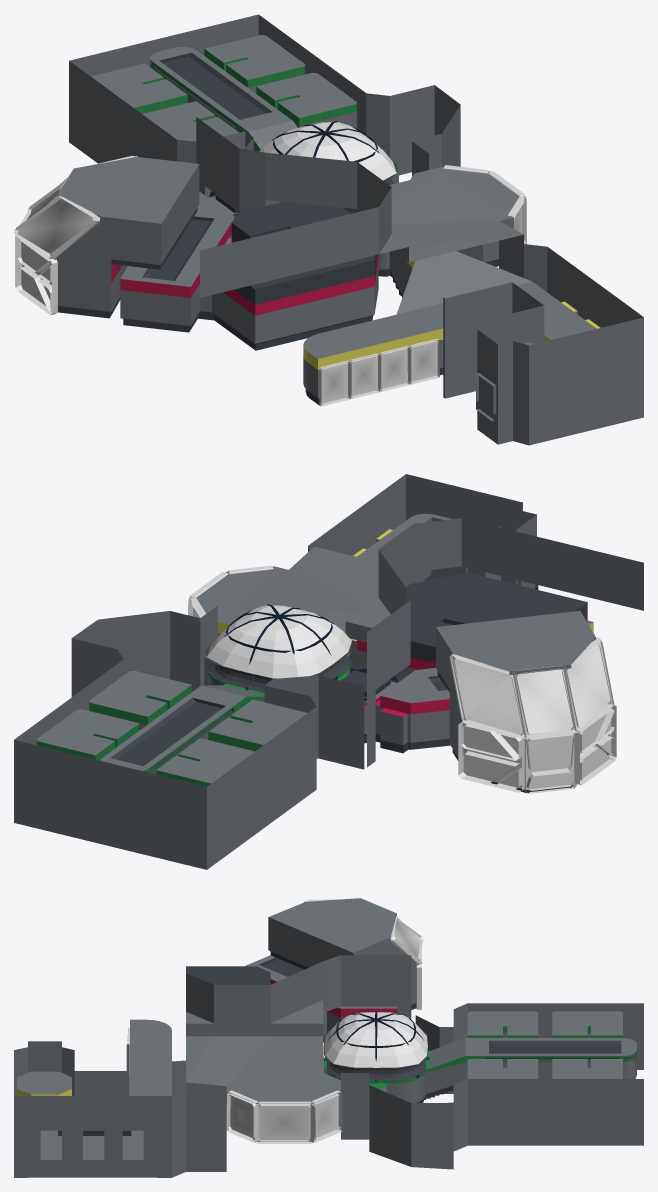
Rendered from cells but epic.fbx.
3 views of the same model, one above another, from view 1: azimuth 30°, elevation 25°; view 2: azimuth 150°, elevation 25°; view 3: azimuth 270°, elevation 25° (orthographic). The views are drawn at different scales.
Visible parts, largest first — view 1: Cube, cell_lab, cell_rooms, cell_escape, skylight, window_square.001, window_square_double2, window_square.008, window_square.010, window_square.011, window_square.009; view 2: Cube, cell_lab, cell_rooms, skylight, window_square.002, window_square_double, window_square, cell_escape, window_square2.001, window_square.001, window_square_double2; view 3: Cube, cell_rooms, cell_lab, cell_escape, skylight, window_square.003, window_square.005, window_square.004, window_square.002.
Part boxes in pixels (x1,y1,x2,y2): Cube: [69, 14, 643, 445]; cell_lab: [51, 157, 378, 350]; cell_rooms: [91, 35, 398, 184]; cell_escape: [303, 166, 600, 421]; skylight: [259, 121, 396, 180]; window_square.001: [14, 196, 100, 259]; window_square_double2: [16, 235, 57, 315]; window_square.008: [408, 338, 439, 384]; window_square.010: [348, 353, 380, 399]; window_square.011: [319, 360, 349, 406]; window_square.009: [378, 346, 410, 391]; Cube: [14, 474, 643, 869]; cell_lab: [341, 572, 609, 793]; cell_rooms: [36, 642, 352, 786]; skylight: [206, 604, 352, 690]; window_square.002: [449, 654, 526, 738]; window_square_double: [458, 720, 524, 792]; window_square: [513, 665, 576, 738]; cell_escape: [190, 513, 593, 672]; window_square2.001: [524, 730, 576, 793]; window_square.001: [563, 637, 614, 732]; window_square_double2: [574, 704, 616, 785]; Cube: [14, 955, 643, 1177]; cell_rooms: [323, 1011, 636, 1103]; cell_lab: [186, 898, 416, 1042]; cell_escape: [17, 1019, 340, 1159]; skylight: [323, 1011, 429, 1082]; window_square.003: [256, 1101, 312, 1143]; window_square.005: [310, 1090, 342, 1142]; window_square.004: [226, 1090, 258, 1142]; window_square.002: [390, 916, 423, 965].
Bounding box in the file's own units: 30.87 × 11.05 × 44.7.
